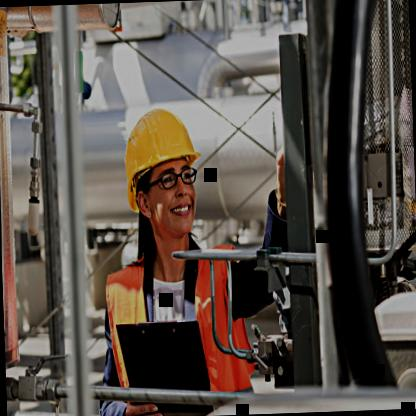helmet: (118, 88, 208, 261)
